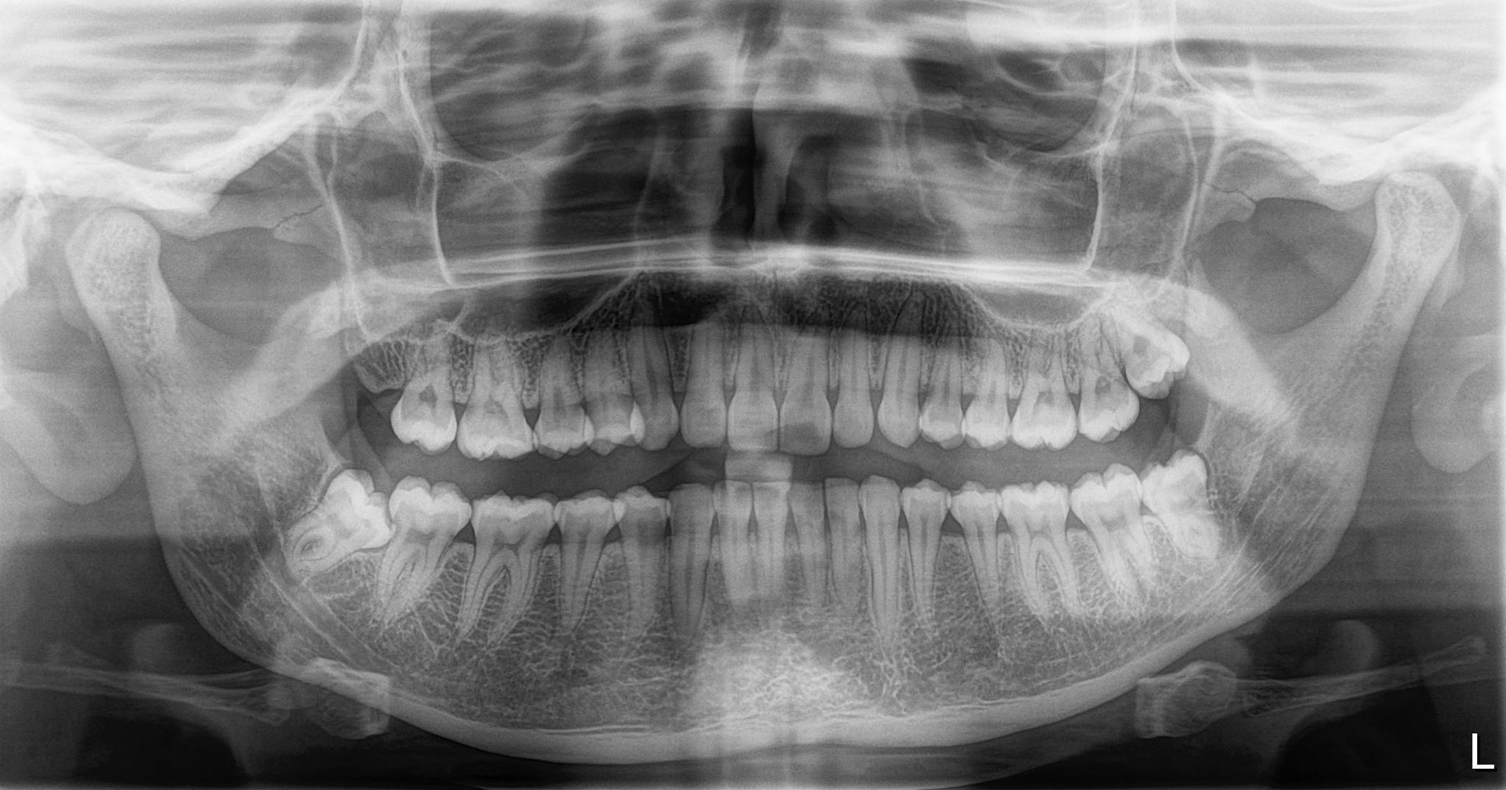Dental Caries: (408, 503, 445, 560)
Impacted Third Molar: (297, 477, 383, 575), (1143, 454, 1239, 540)
